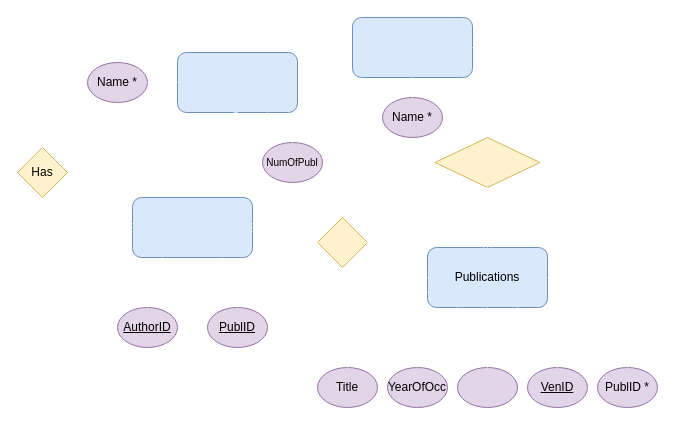
This 675x433 diagram has some shape labels left out. Each missing label, with the centre of its shape:
"AuthorOwner" goes at point (192, 227).
"Authors" goes at point (237, 82).
"NumOfAuth" goes at point (487, 387).
"Published At" goes at point (487, 162).
"To" goes at point (342, 242).
"Venues" goes at point (412, 47).
